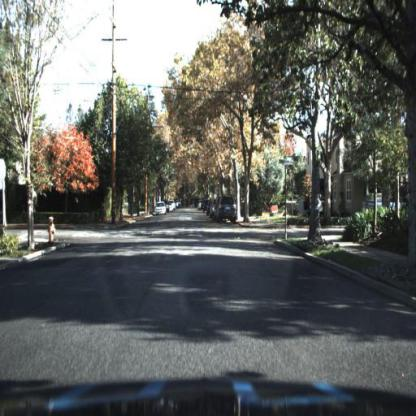car: (215, 193, 240, 225), (156, 201, 168, 219)
